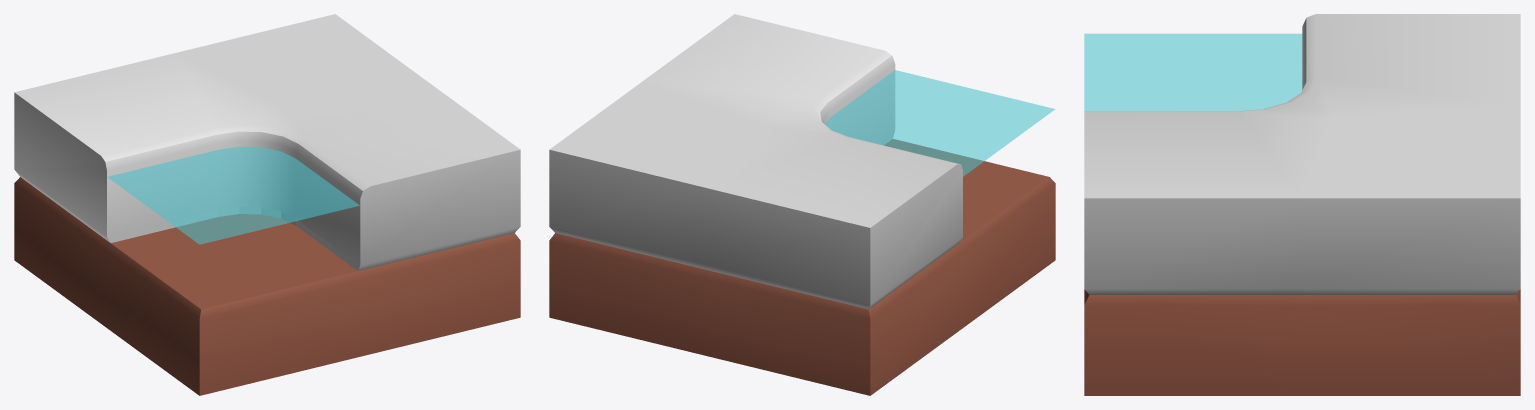
File: square_snow_waterInnerCorner_noSides.fbx
3 renders of one model, left to right at view 1: azimuth 30°, elevation 25°; view 2: azimuth 150°, elevation 25°; view 3: azimuth 270°, elevation 25°, orthographic. The views are drawn at different scales.
Visible parts, largest first — view 1: square_snow_waterInnerCorner_noSides; view 2: square_snow_waterInnerCorner_noSides; view 3: square_snow_waterInnerCorner_noSides.
Part boxes in pixels (x1=…): square_snow_waterInnerCorner_noSides: x1=14, y1=14, x2=520, y2=395; square_snow_waterInnerCorner_noSides: x1=549, y1=14, x2=1055, y2=395; square_snow_waterInnerCorner_noSides: x1=1084, y1=14, x2=1520, y2=395.
Bounding box in the file's own units: 2 × 1 × 2.
